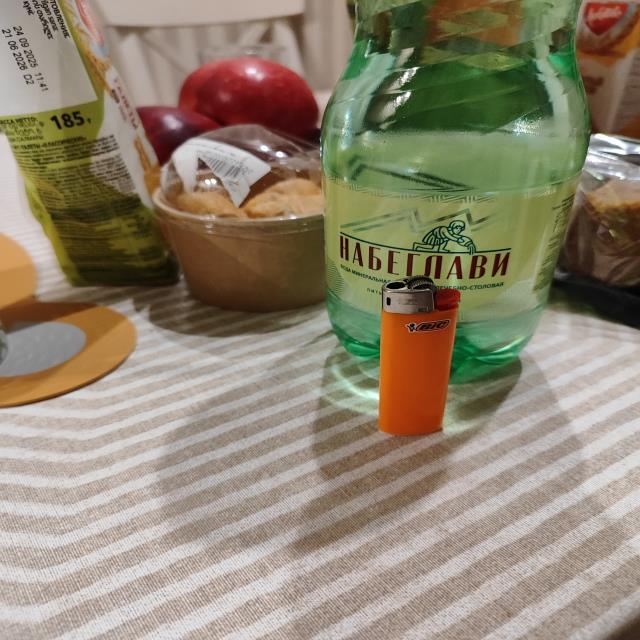lighter: (379, 276, 458, 435)
